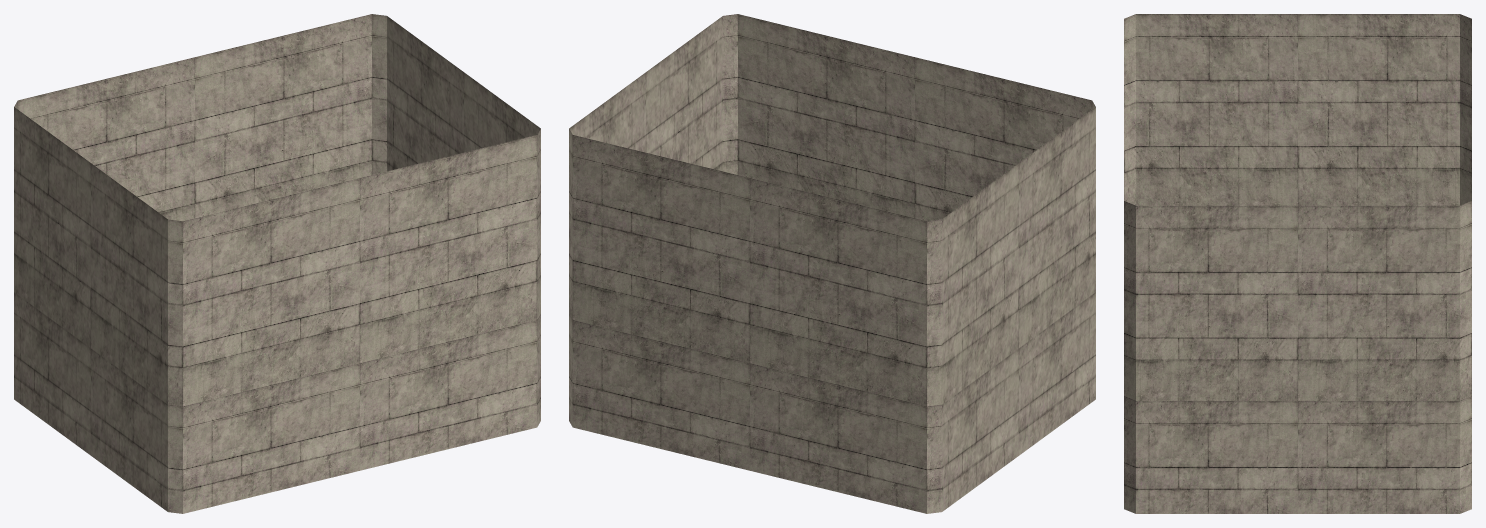
File: ExtensionMarble.dae
3 renders of one model, left to right at view 1: azimuth 30°, elevation 25°; view 2: azimuth 150°, elevation 25°; view 3: azimuth 270°, elevation 25°, orthographic. The views are drawn at different scales.
Parts seen in each view (by area): view 1: ExtensionMarble; view 2: ExtensionMarble; view 3: ExtensionMarble.
Part boxes in pixels (x1,y1,x2,y2): ExtensionMarble: [14, 14, 540, 513]; ExtensionMarble: [569, 14, 1095, 513]; ExtensionMarble: [1124, 14, 1471, 513].
Bounding box in the file's own units: 4 × 3 × 3.07.
Materials: 1 (1 with a texture image).
